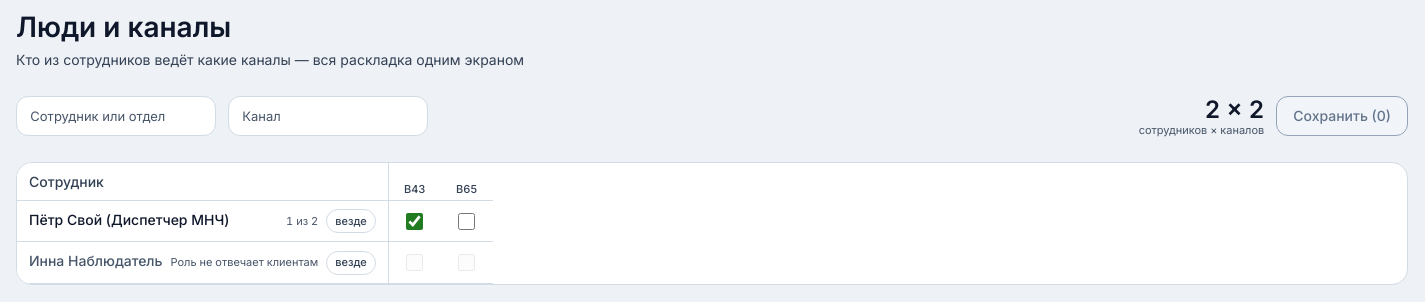
Scenario: Люди и каналы › вернул как было — правка исчезает, «Сохранить» гаснет
Expected: the text "1 из 2" is shown, [286,213,318,230]
Click the checkbox named "Пётр Свой (Диспетчер МНЧ) на канале Парт-7 · В65": click(467, 221) [458,213,475,230]
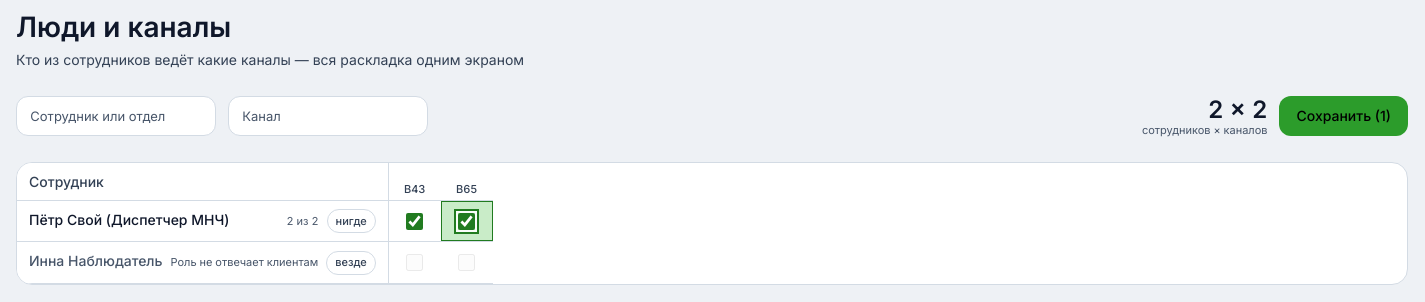
Now the button "Сохранить (1)" is enabled, box [1280,96,1408,136]
Click the checkbox named "Пётр Свой (Диспетчер МНЧ) на канале Парт-7 · В65": click(467, 221) [458,213,475,230]
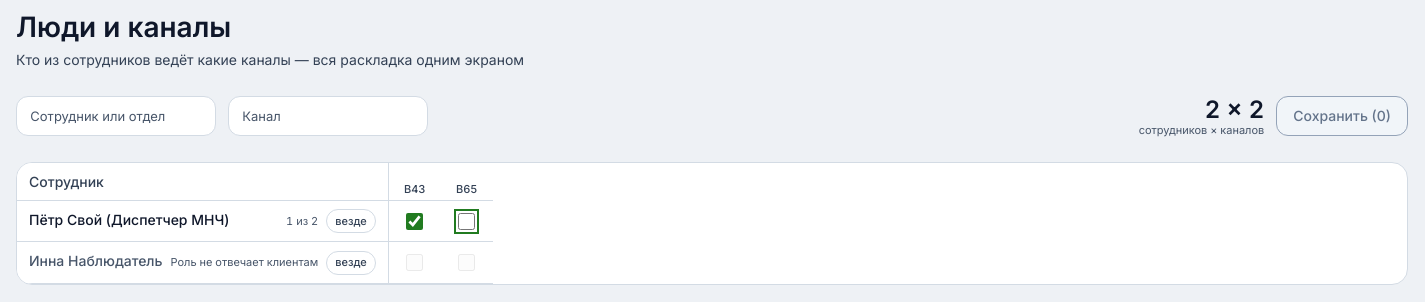
Now the button "Сохранить (0)" is disabled, box [1276,96,1408,136]
